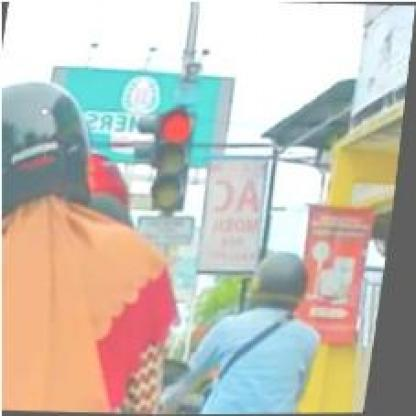red: (151, 111, 201, 212)
